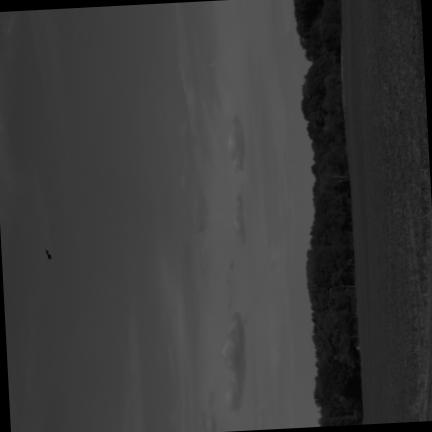Shahed: (45, 247, 51, 258)
